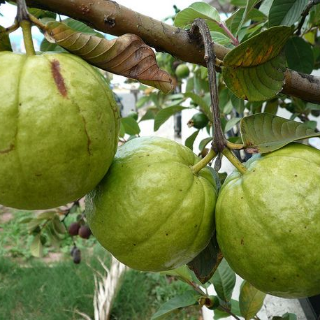oi: (86, 137, 217, 271)
